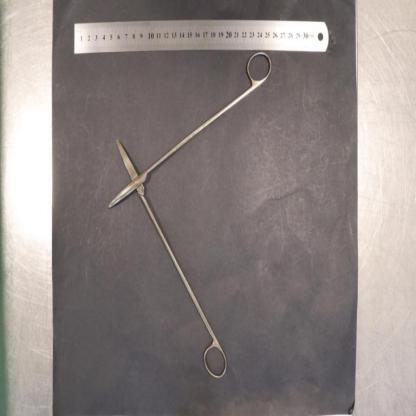9 Metzenbaum Scissors: (108, 49, 273, 382)
